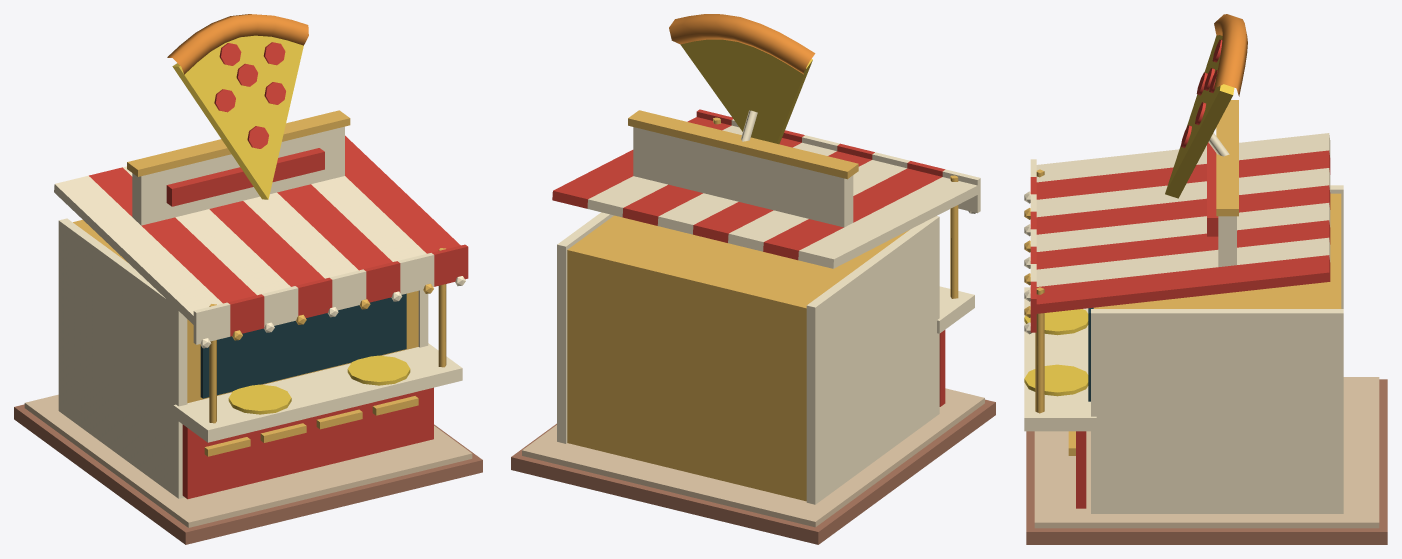
The model's file is stall_pizza.glb.
3 views of the same model, side by side, from view 1: azimuth 30°, elevation 25°; view 2: azimuth 150°, elevation 25°; view 3: azimuth 270°, elevation 25° (orthographic). The views are drawn at different scales.
Parts seen in each view (by area): view 1: stall_pizza; view 2: stall_pizza; view 3: stall_pizza.
Boxes of the visible parts, x1,y1,x2,y2 form: stall_pizza: (14,14,482,544); stall_pizza: (511,14,995,544); stall_pizza: (1024,14,1387,544).
Size of the model in its own units: 3.5 by 4.73 by 3.52.
